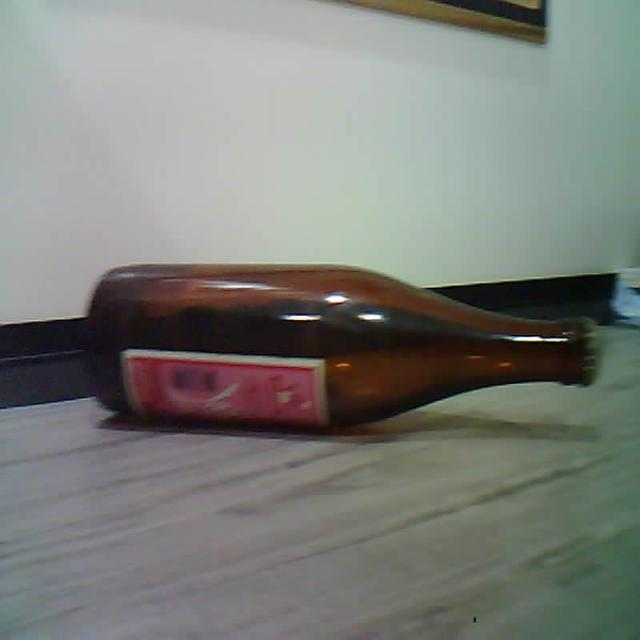bottle: (86, 266, 598, 430)
